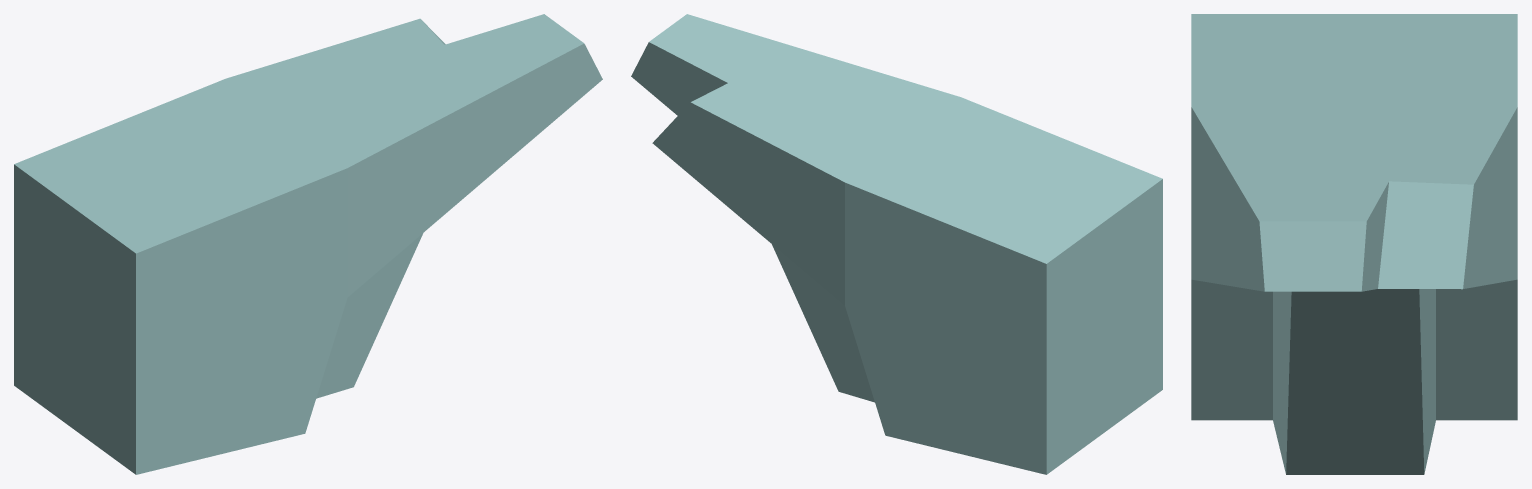
Rendered from x_kray_obriv_blue_4_1_mirror.fbx.
The picture shows the model from 3 angles, left to right: view 1: azimuth 30°, elevation 25°; view 2: azimuth 150°, elevation 25°; view 3: azimuth 270°, elevation 25°; orthographic projection. The views are drawn at different scales.
Parts seen in each view (by area): view 1: x_kray_obriv_blue_4_1_mirror1; view 2: x_kray_obriv_blue_4_1_mirror1; view 3: x_kray_obriv_blue_4_1_mirror1.
Boxes of the visible parts, left/top/right/bottom form: x_kray_obriv_blue_4_1_mirror1: left=14, top=14, right=602, bottom=474; x_kray_obriv_blue_4_1_mirror1: left=631, top=14, right=1162, bottom=474; x_kray_obriv_blue_4_1_mirror1: left=1191, top=14, right=1517, bottom=474.
Bounding box in the file's own units: 2.34 × 1.34 × 1.
